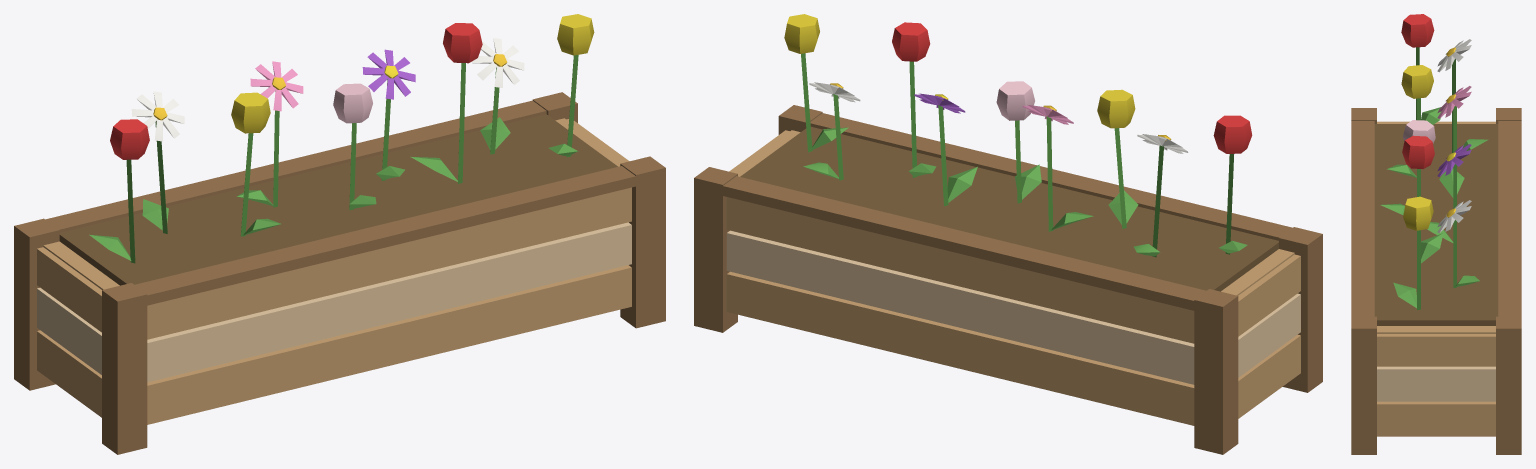
File: furn_planter.glb
The picture shows the model from 3 angles, left to right: view 1: azimuth 30°, elevation 25°; view 2: azimuth 150°, elevation 25°; view 3: azimuth 270°, elevation 25°; orthographic projection. The views are drawn at different scales.
Visible parts, largest first — view 1: furn_planter_body; view 2: furn_planter_body; view 3: furn_planter_body.
Part boxes in pixels (left/top/right/bottom): furn_planter_body: left=14, top=14, right=665, bottom=454; furn_planter_body: left=694, top=14, right=1322, bottom=454; furn_planter_body: left=1351, top=14, right=1521, bottom=454.
Size of the model in its own units: 1.01 by 0.5313 by 0.33.
